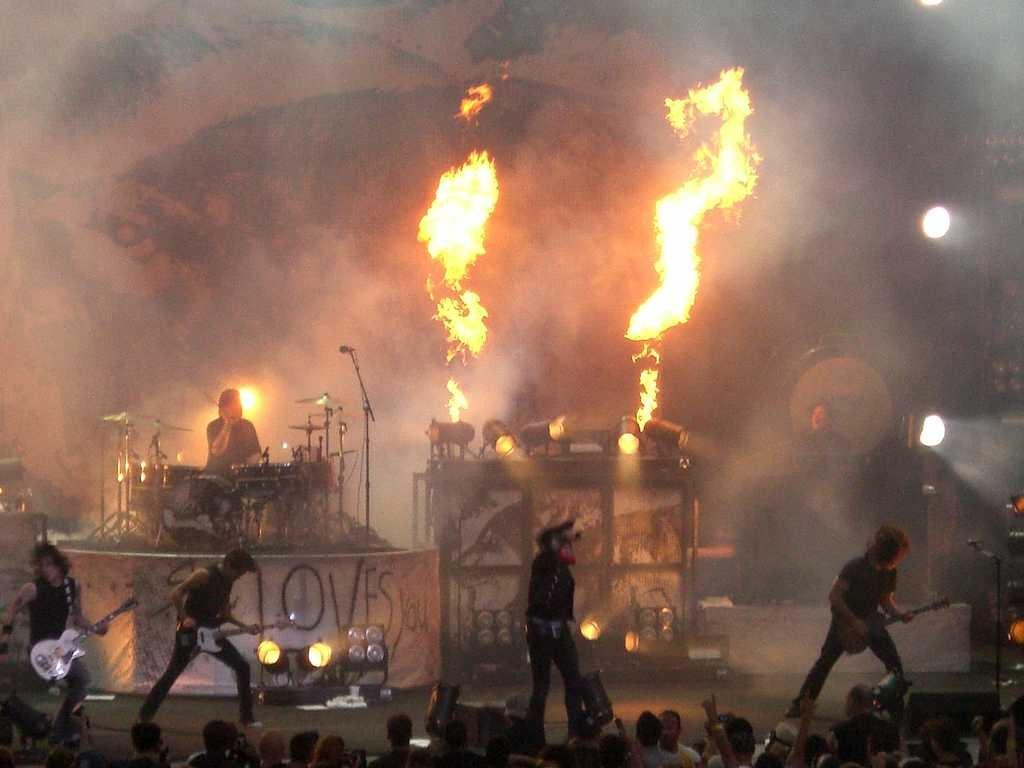fire: (426, 164, 492, 264), (654, 210, 702, 314), (696, 98, 748, 190)
smoke: (8, 114, 96, 412)
